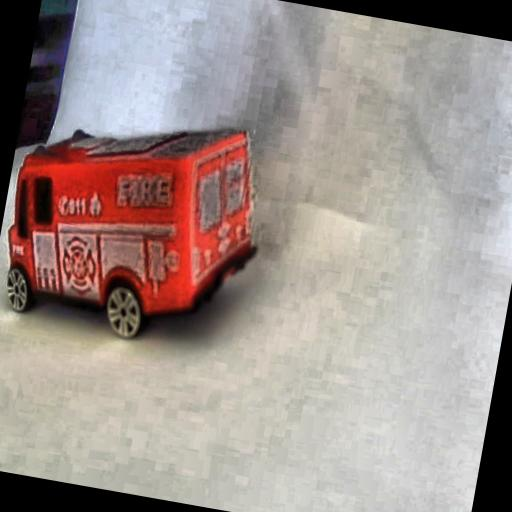fire_truck: (0, 86, 279, 363)
